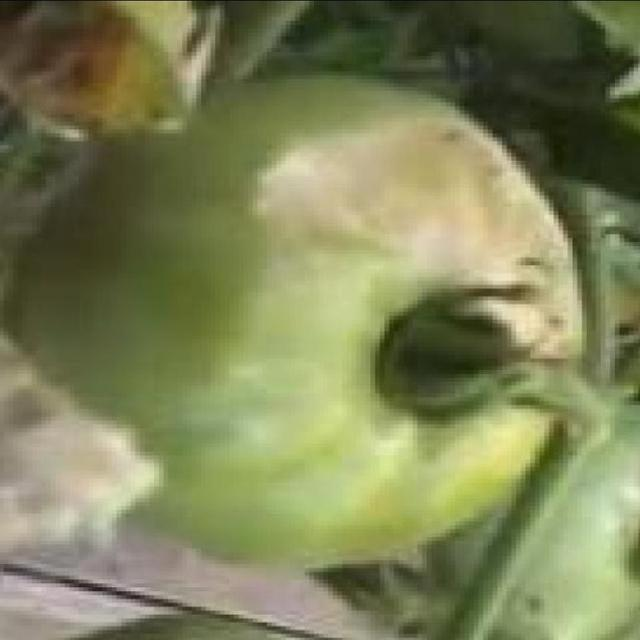Sunscald Fruit: (145, 73, 377, 234)
